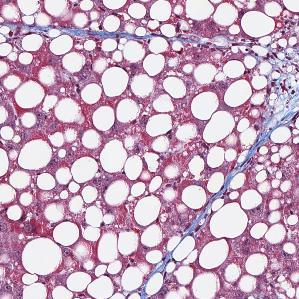fibrosis: (258, 43, 299, 131)
